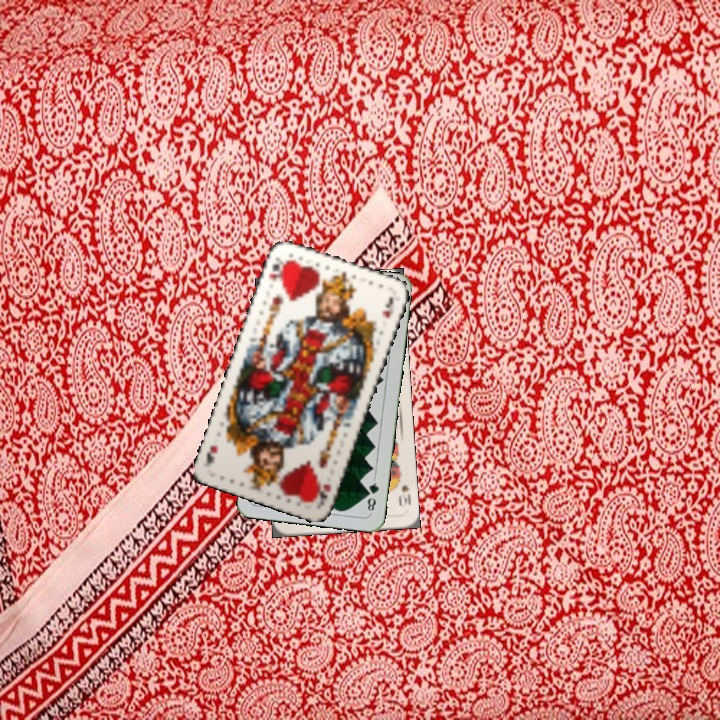G8: (363, 475, 381, 516)
HK: (264, 252, 289, 284), (315, 479, 334, 508)
S10: (393, 472, 414, 508)
